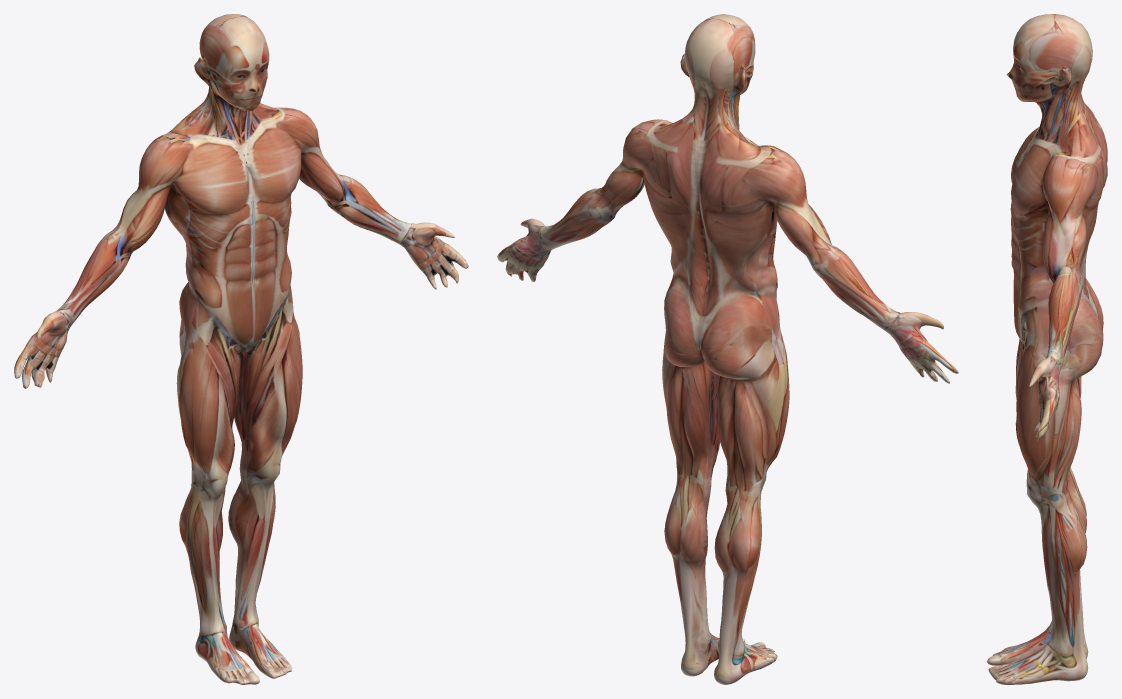
The model's file is HumanBody.glb.
The picture shows the model from 3 angles, left to right: view 1: azimuth 30°, elevation 25°; view 2: azimuth 150°, elevation 25°; view 3: azimuth 270°, elevation 25°; orthographic projection.
Bounding box in the file's own units: 1.48 × 2 × 0.3351.
1 material, 1 textured.
